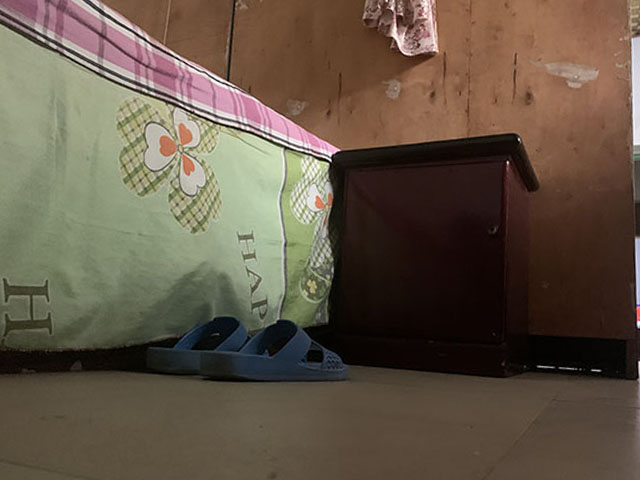bed: (1, 1, 344, 369)
cabinet: (329, 131, 542, 379)
slippers: (205, 314, 348, 385), (144, 313, 244, 369)
